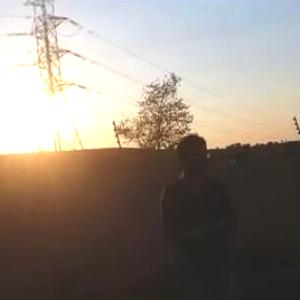follow: (148, 124, 242, 299)
